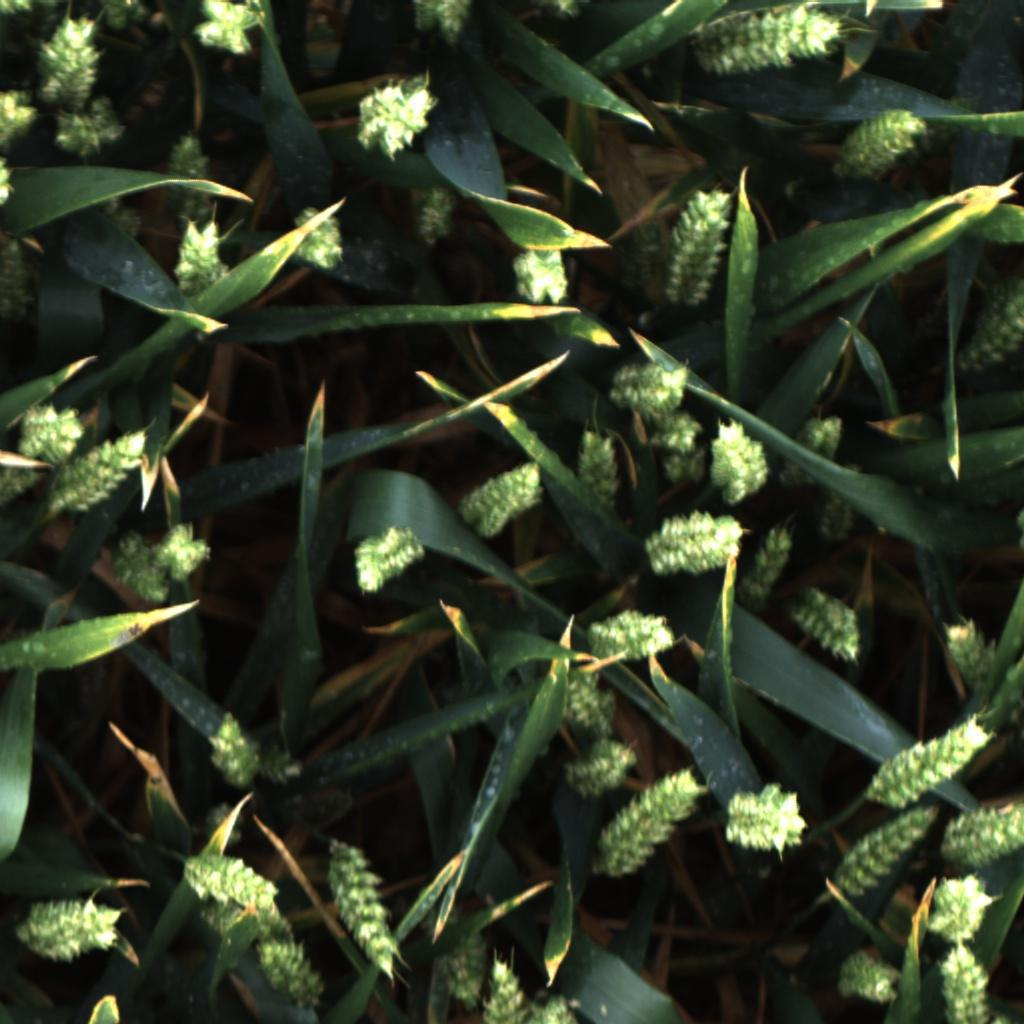0-0: (862, 710, 1006, 810), (595, 759, 706, 883), (686, 7, 850, 79), (824, 805, 937, 907), (329, 843, 410, 978), (47, 422, 155, 520), (345, 70, 452, 165), (24, 7, 113, 116), (14, 891, 140, 966), (664, 188, 742, 306), (454, 452, 545, 549), (831, 103, 932, 190), (717, 775, 812, 861), (916, 861, 1008, 944), (543, 657, 632, 741), (643, 507, 749, 577), (795, 583, 875, 672), (345, 516, 428, 601), (41, 92, 137, 165), (607, 348, 694, 428), (161, 214, 240, 302), (704, 406, 771, 506), (247, 935, 330, 1014), (961, 275, 1024, 379), (580, 609, 689, 669), (183, 849, 281, 914), (157, 126, 217, 232), (777, 407, 850, 493), (734, 515, 802, 606), (937, 793, 1024, 864), (11, 397, 95, 470), (569, 423, 630, 523), (556, 729, 637, 804), (828, 943, 913, 1014), (283, 197, 355, 279), (429, 922, 493, 1013), (186, 0, 275, 65), (104, 524, 171, 610), (642, 407, 708, 490), (144, 512, 218, 586), (204, 708, 268, 792), (933, 936, 994, 1024), (935, 608, 999, 689), (404, 177, 467, 252), (197, 896, 283, 949), (815, 461, 864, 553), (616, 217, 669, 298), (478, 955, 535, 1024), (509, 247, 573, 308), (0, 236, 41, 330), (331, 236, 395, 295), (91, 187, 146, 243), (0, 87, 45, 153), (253, 738, 302, 786), (0, 465, 49, 509), (521, 990, 582, 1024), (262, 897, 299, 950), (96, 0, 155, 33), (437, 0, 475, 51), (202, 802, 248, 844), (530, 0, 596, 23), (0, 0, 58, 23), (414, 0, 439, 37), (0, 157, 17, 209)
